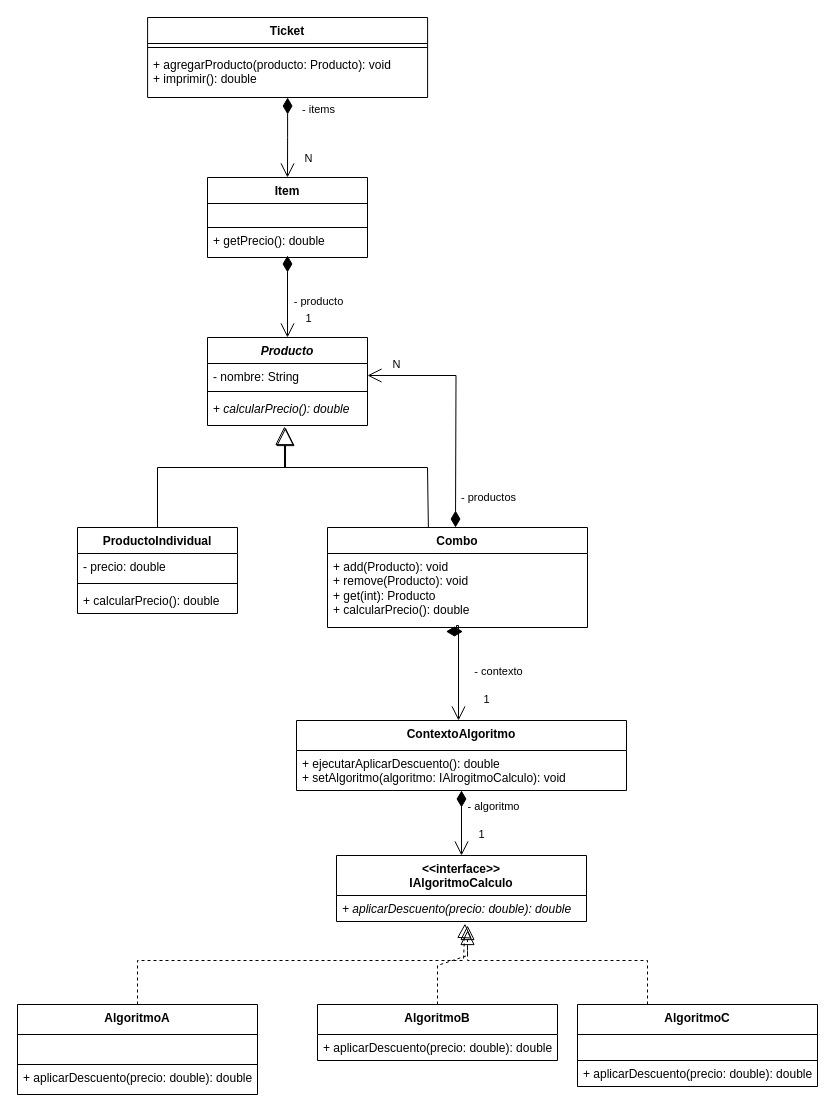
This 835x1115 diagram has some shape labels left out. Each missing label, with the centre of its shape:
- cantidad: int: the point at 287,215
- DESCUENTO: int = 10: the point at 137,1049
- DESCUENTO: int = 30: the point at 697,1047
